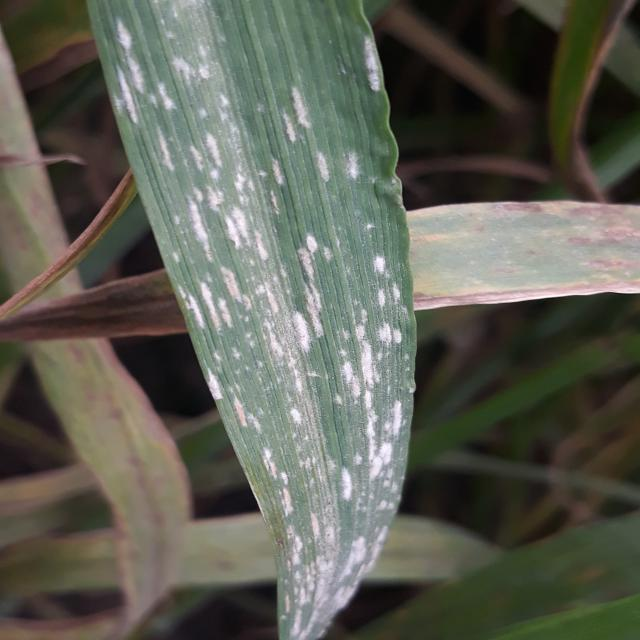powder_mildew: (81, 0, 438, 640), (0, 49, 97, 328), (442, 192, 640, 322)
